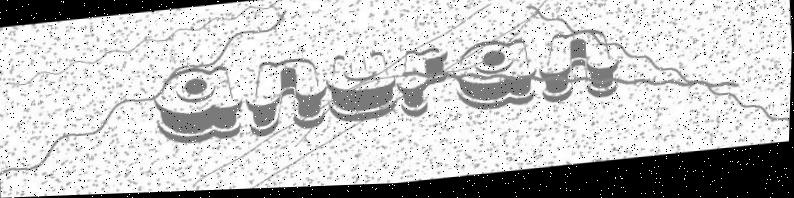a: (152, 63, 247, 148), (452, 40, 540, 116)
n: (243, 57, 331, 140), (536, 32, 623, 109)
r: (396, 50, 452, 120)
u: (325, 52, 400, 126)
